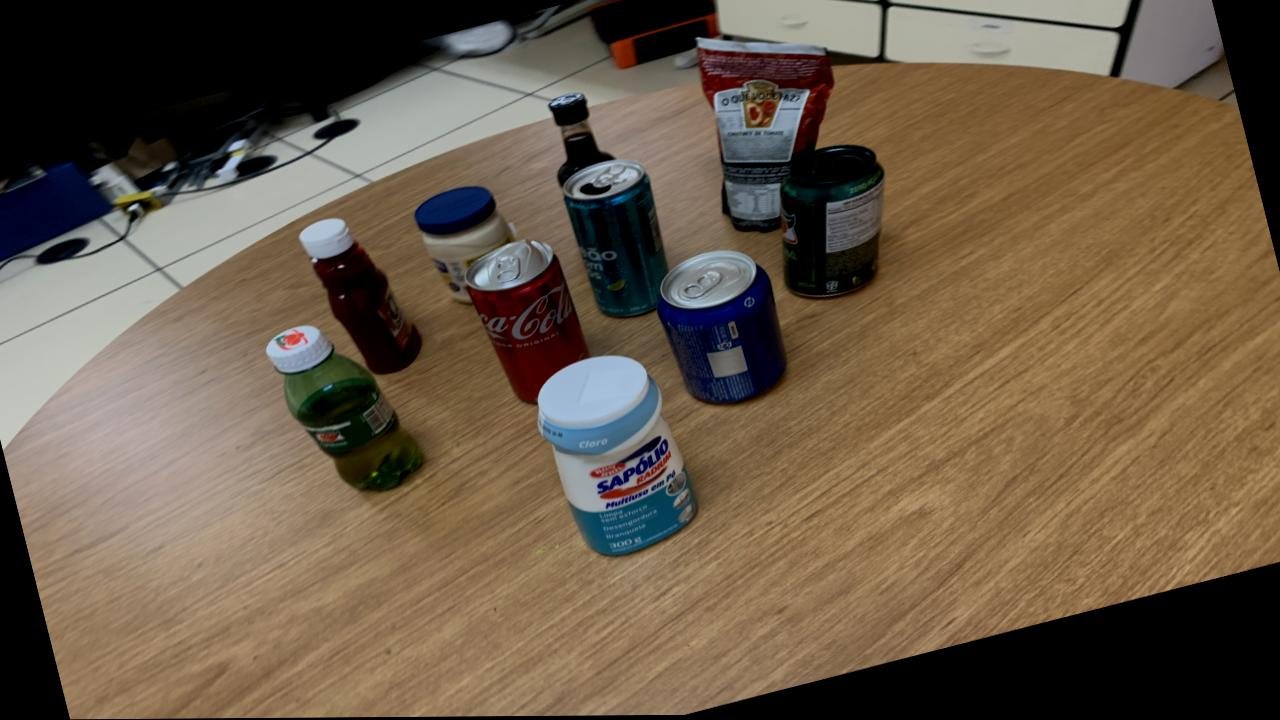Cleaner-Cleanup_Items: (537, 356, 697, 557)
Coke-Drinks: (464, 240, 589, 404)
English_Sauce-Pantry_Items: (549, 94, 614, 187)
Guarana-Drinks: (266, 325, 423, 491)
Guarana_Can-Drinks: (780, 146, 886, 298)
Ketchup-Pantry_Items: (300, 219, 422, 374)
Mayonnaise-Pantry_Items: (414, 186, 516, 304)
Tea-Drinks: (562, 160, 668, 318)
Tomato_Sauce-Pantry_Items: (696, 39, 834, 233)
Tonic-Drinks: (657, 251, 787, 405)
